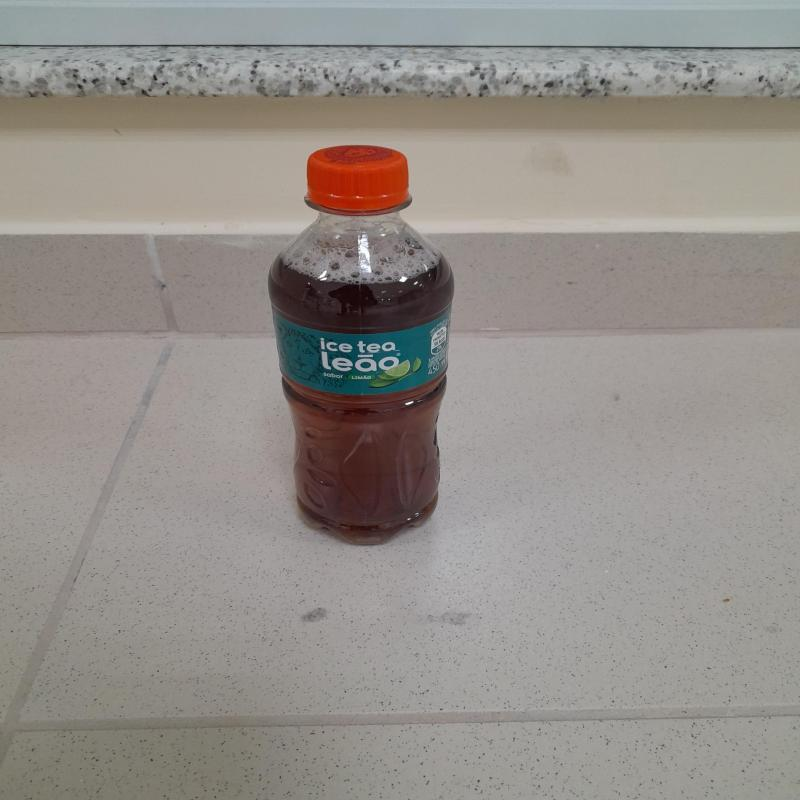IceTea: (270, 147, 460, 546)
